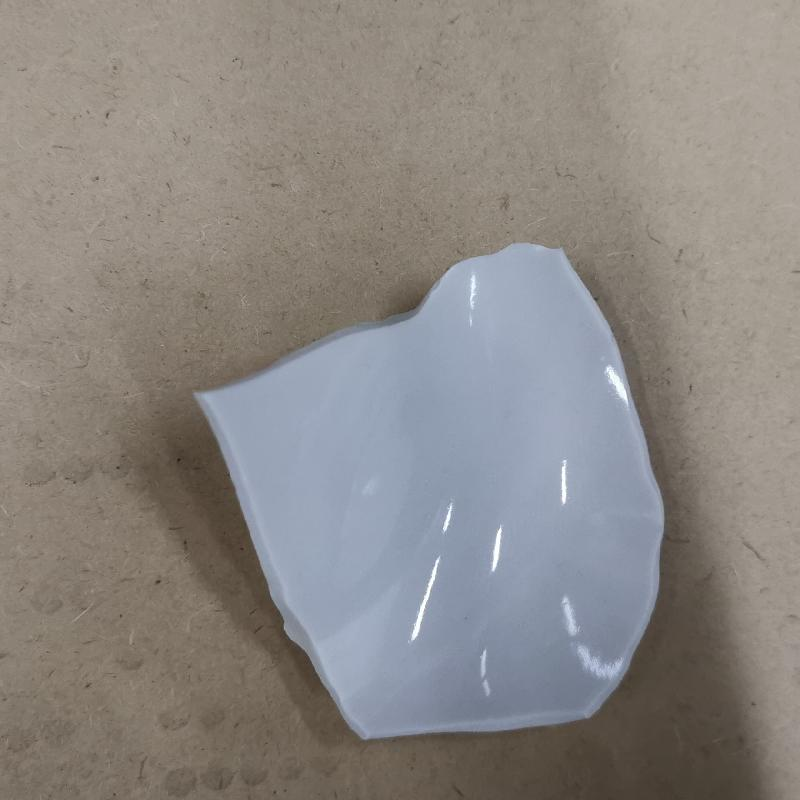ceram: (190, 239, 671, 745)
